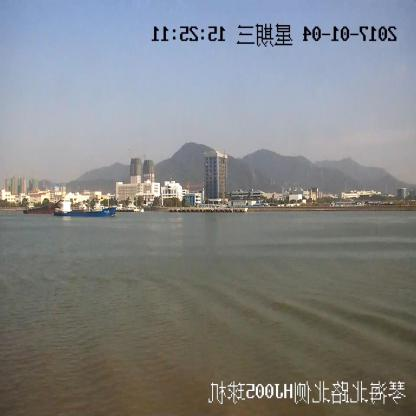Bulk Carrier: (55, 197, 116, 217)
